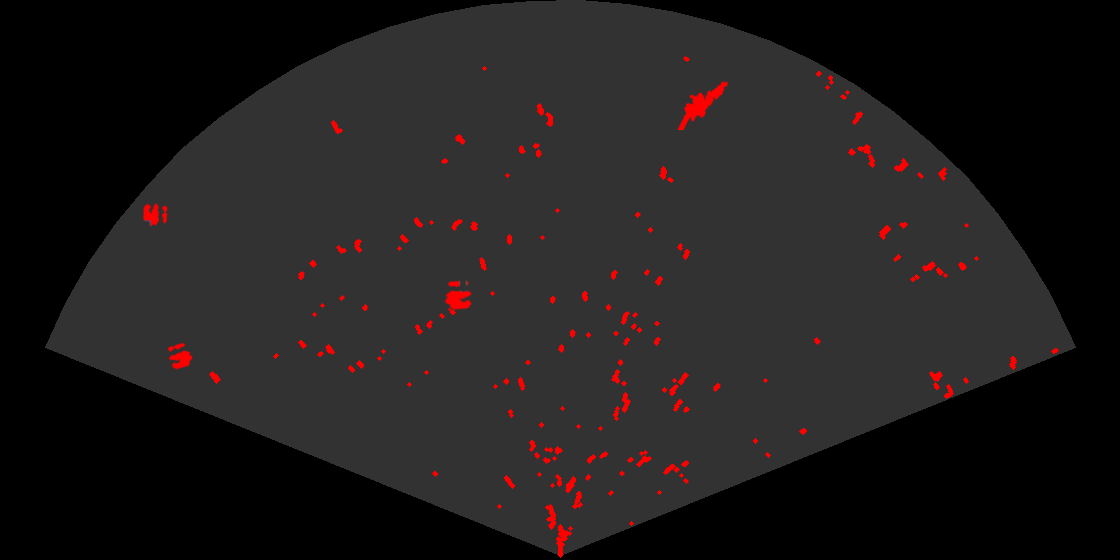ball: (443, 279, 474, 311), (166, 341, 194, 371), (142, 202, 169, 228)
frogman: (676, 79, 730, 130)
